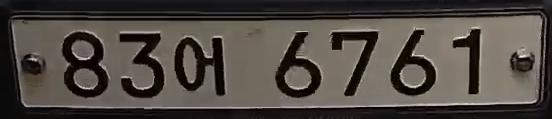1: (444, 25, 501, 100)
3: (114, 26, 168, 101)
6: (382, 24, 445, 99), (268, 26, 325, 100)
7: (324, 25, 383, 101)
8: (58, 28, 114, 101)
어: (167, 29, 235, 100)
